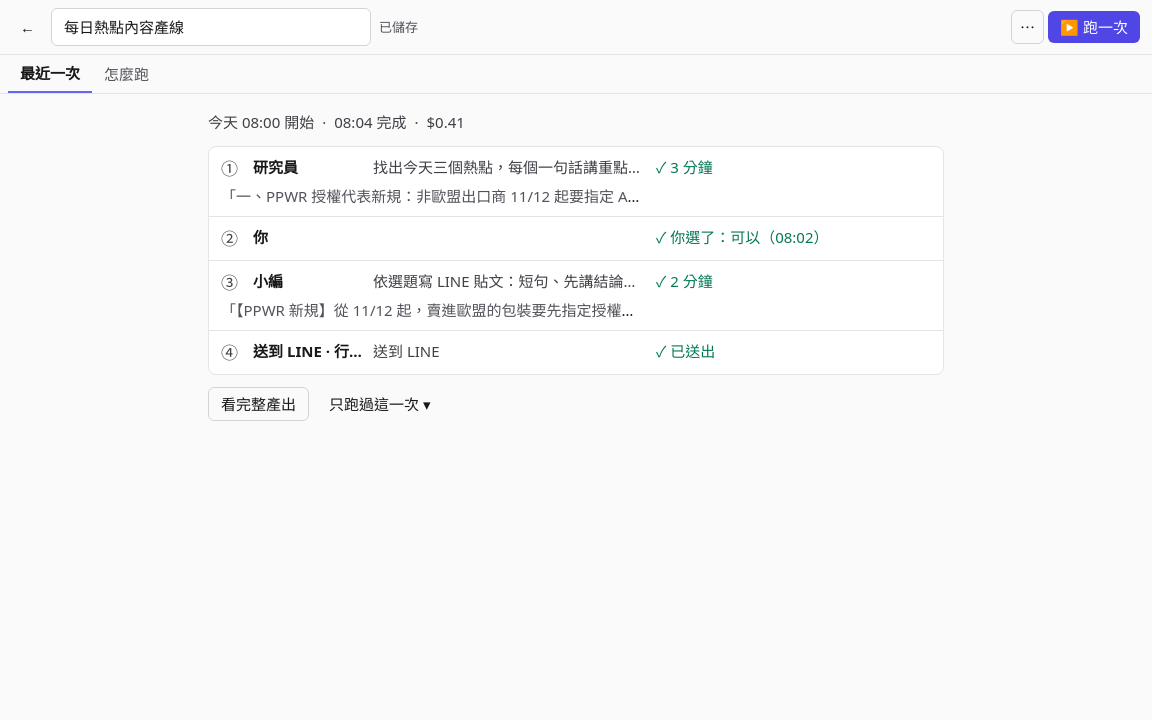
Test: EditorPage：兩個分頁 › 跑過的流程一進來是「最近一次」；「怎麼跑」才是一步一行，而且不是畫布
The width and height of the screenshot is (1152, 720).
Expected: the element with test id "last-run-view" is shown, [192, 94, 960, 437]
Click the tab with test id "tab-how" at point(126, 74), box [92, 56, 161, 92]
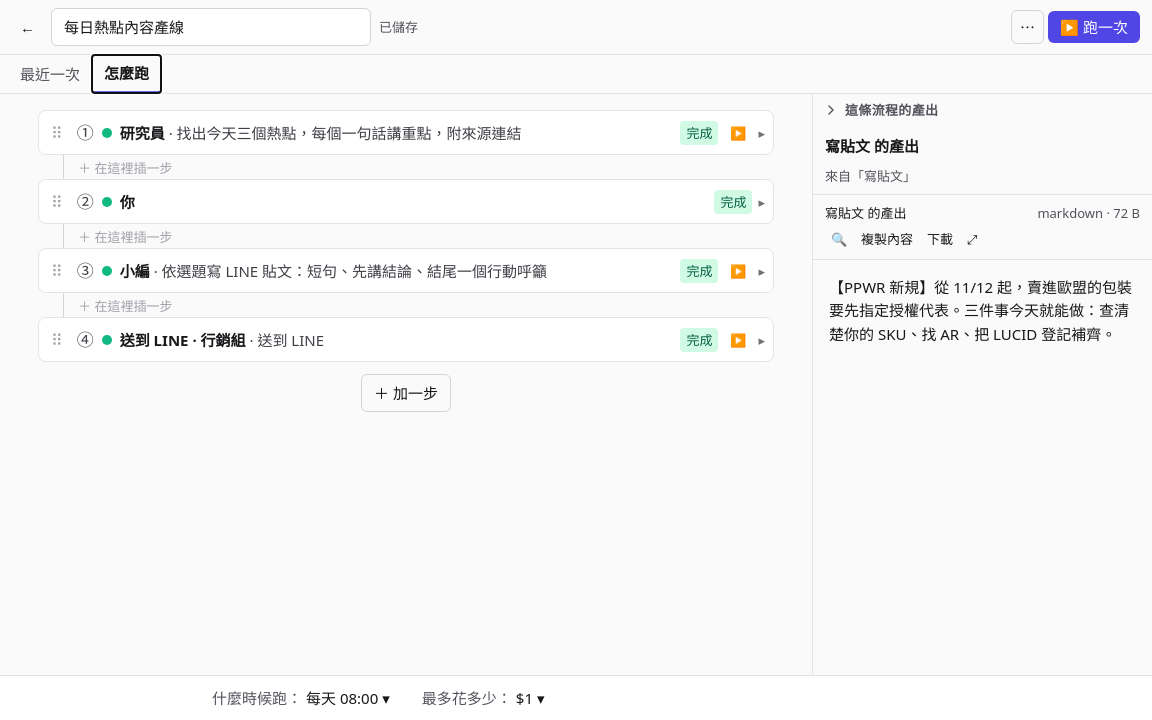
Expected: the element with test id "stations-view" is shown, [22, 94, 790, 428]
Expected: the element with test id "station-n1-summary" shows "研究員 · 找出今天三個熱點", [120, 122, 522, 142]
Expected: the button with test id "bar-when" shows "每天 08:00"
Click the button with test id "bar-when" at point(301, 698), box [208, 684, 394, 712]
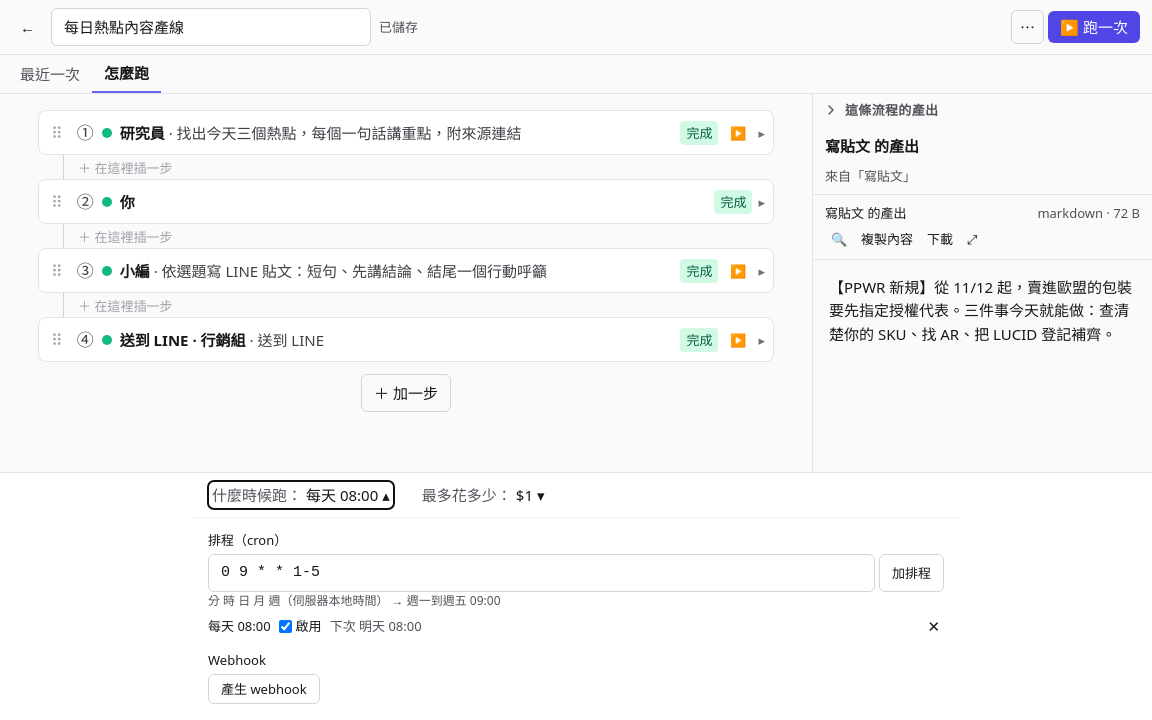
Expected: the list item with test id "schedule-sc1" shows "每天 08:00", [208, 617, 271, 635]
Click the button with test id "bar-budget" at point(483, 495), box [418, 481, 548, 509]
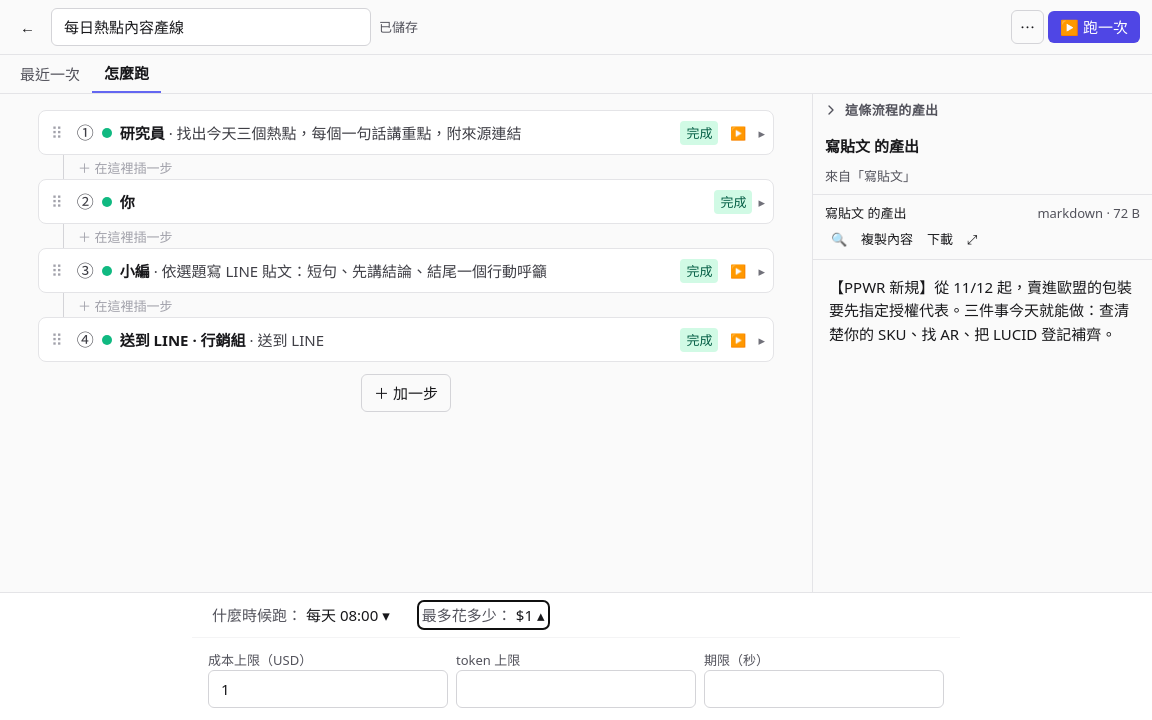
Expected: the number field labelled "成本上限（USD）" holds "1", [208, 670, 448, 708]
